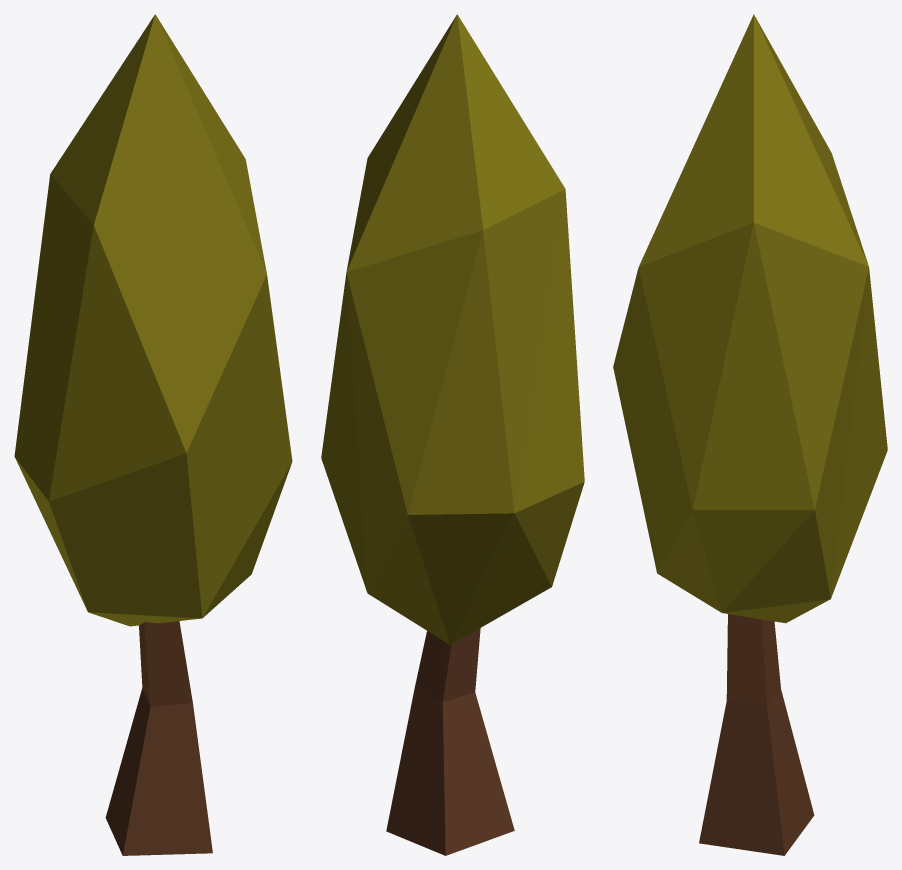
Rendered from PointyTree2.fbx.
The picture shows the model from 3 angles, left to right: view 1: azimuth 30°, elevation 25°; view 2: azimuth 150°, elevation 25°; view 3: azimuth 270°, elevation 25°; orthographic projection.
Visible parts, largest first — view 1: PointyTree2; view 2: PointyTree2; view 3: PointyTree2.
Boxes of the visible parts, <box> form: PointyTree2: <box>14,14,292,855</box>; PointyTree2: <box>321,14,584,855</box>; PointyTree2: <box>613,14,887,855</box>.
Bounding box in the file's own units: 106 × 373 × 114.
